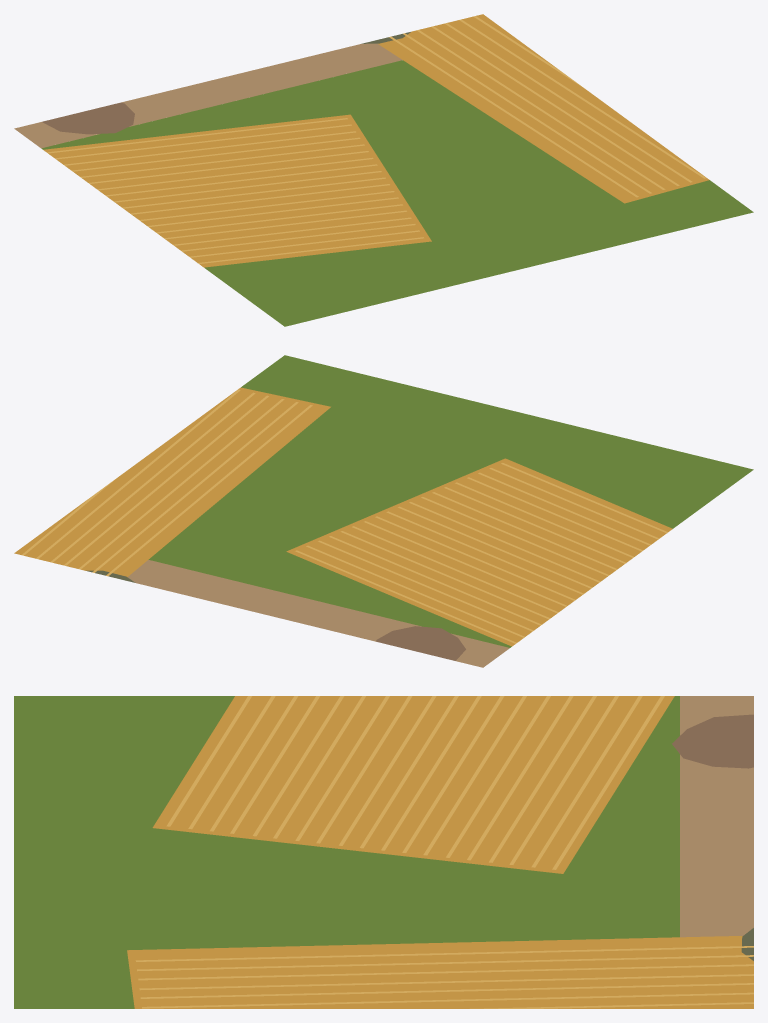
Rendered from crossing-6-5.glb.
The picture shows the model from 3 angles, top to bottom: view 1: azimuth 30°, elevation 25°; view 2: azimuth 150°, elevation 25°; view 3: azimuth 270°, elevation 25°; orthographic projection. The views are drawn at different scales.
Visible parts, largest first — view 1: crossing-6-5; view 2: crossing-6-5; view 3: crossing-6-5.
Boxes of the visible parts, bbox=[...] form: crossing-6-5: bbox=[14, 14, 753, 326]; crossing-6-5: bbox=[14, 355, 753, 667]; crossing-6-5: bbox=[14, 696, 753, 1008].
Size of the model in its own units: 100 by 0.0064 by 100.
